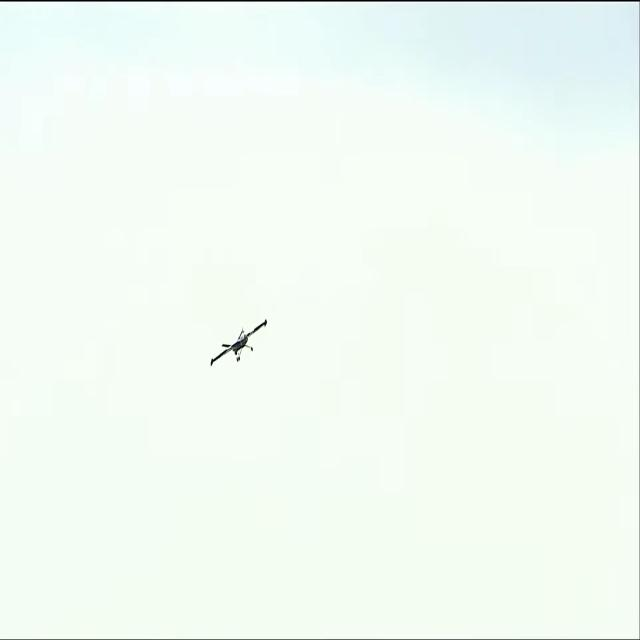iha: (210, 319, 268, 370)
